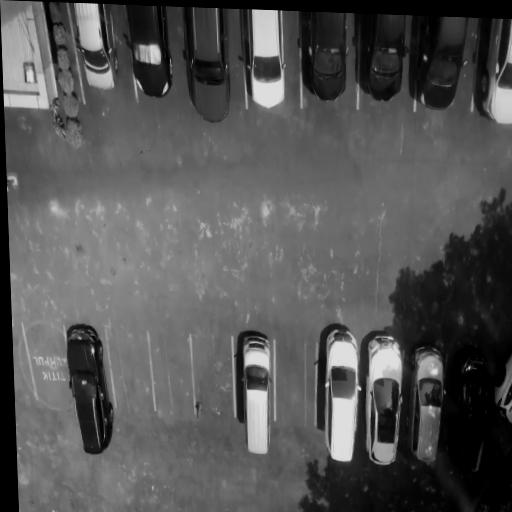Car: (177, 7, 233, 132), (313, 327, 362, 467), (67, 323, 115, 458), (447, 346, 495, 474), (363, 331, 406, 471), (234, 325, 277, 456), (122, 5, 176, 107), (297, 11, 348, 115), (413, 19, 470, 111), (239, 9, 288, 113), (407, 341, 447, 467), (68, 4, 121, 99), (355, 13, 407, 109), (471, 18, 512, 128), (490, 349, 512, 433)
Space Available: (272, 332, 317, 440), (191, 322, 235, 431), (148, 320, 195, 420), (25, 321, 68, 424), (108, 321, 150, 417)
